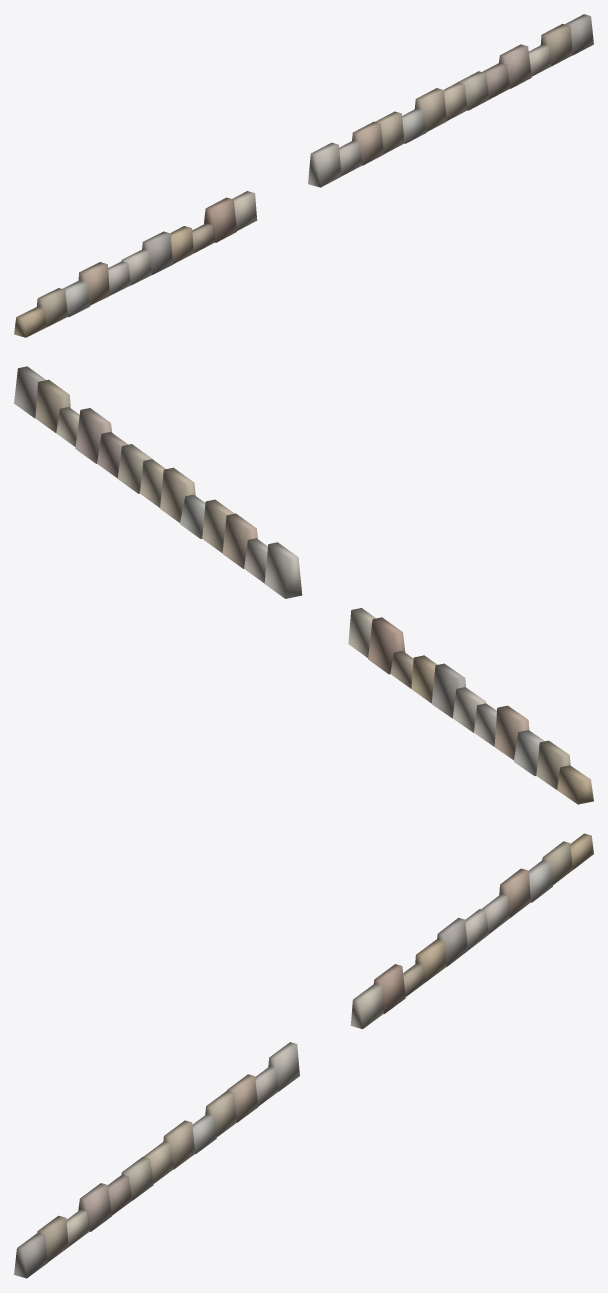
The model's file is farm_-33_-27_collision.glb.
3 renders of one model, top to bottom at view 1: azimuth 90°, elevation 25°; view 2: azimuth 150°, elevation 25°; view 3: azimuth 270°, elevation 25°, orthographic. The views are drawn at different scales.
Visible parts, largest first — view 1: geometry_0; view 2: geometry_0; view 3: geometry_0.
Boxes of the visible parts, <box> form: geometry_0: <box>14,14,593,337</box>; geometry_0: <box>14,366,593,804</box>; geometry_0: <box>14,833,593,1278</box>.
Bounding box in the file's own units: 36.22 × 4.14 × 24.5.
